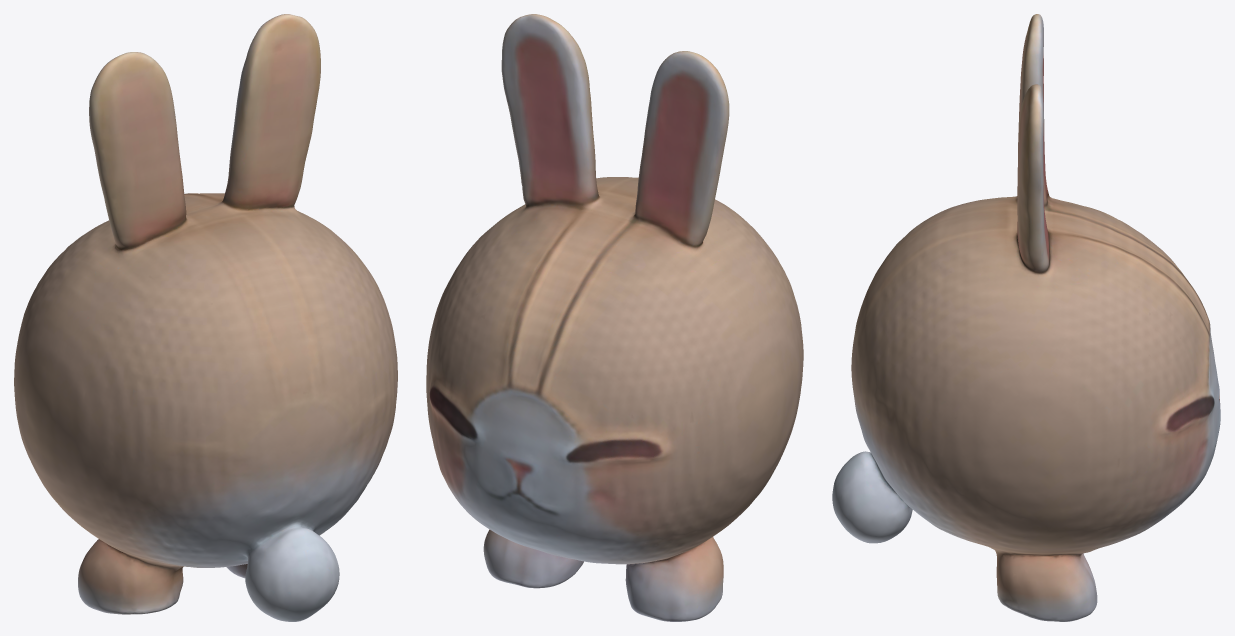
Rendered from bunny.glb.
The picture shows the model from 3 angles, left to right: view 1: azimuth 30°, elevation 25°; view 2: azimuth 150°, elevation 25°; view 3: azimuth 270°, elevation 25°; orthographic projection. The views are drawn at different scales.
Visible parts, largest first — view 1: world; view 2: world; view 3: world.
Boxes of the visible parts, left/top/right/bottom form: world: left=14, top=14, right=397, bottom=621; world: left=426, top=14, right=803, bottom=621; world: left=832, top=14, right=1220, bottom=621.
Size of the model in its own units: 0.3411 by 0.5506 by 0.3717.
Materials: 1 (1 with a texture image).
